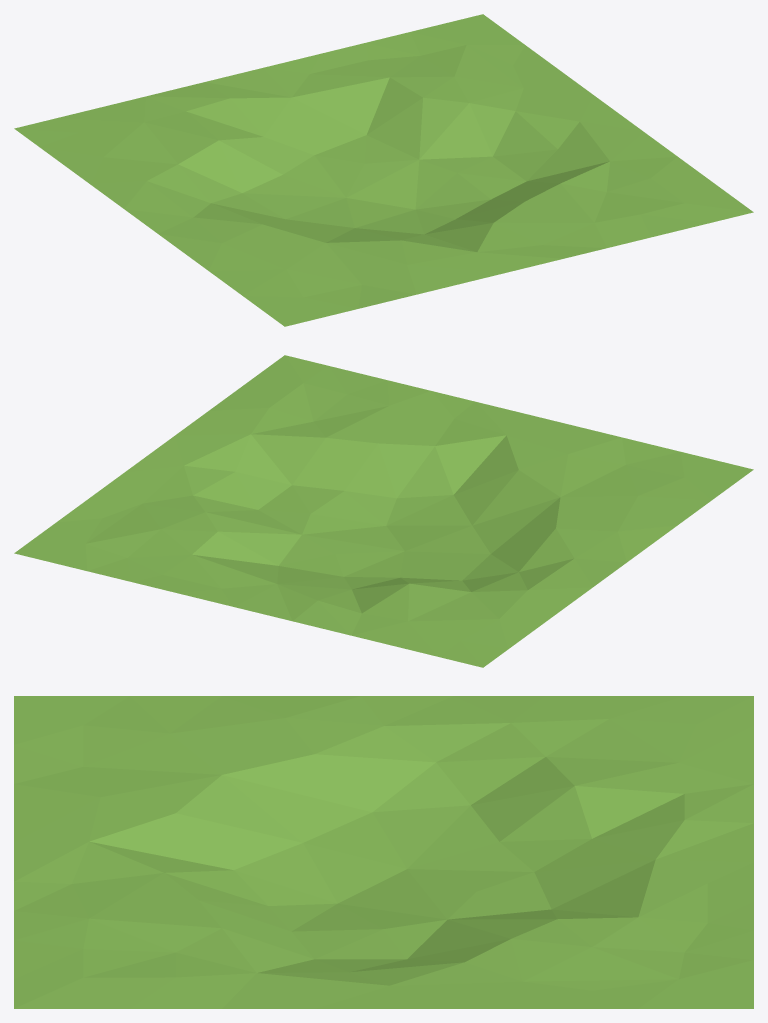
Rendered from MT_Terrain_S_b_03.fbx.
3 renders of one model, top to bottom at view 1: azimuth 30°, elevation 25°; view 2: azimuth 150°, elevation 25°; view 3: azimuth 270°, elevation 25°, orthographic. The views are drawn at different scales.
Visible parts, largest first — view 1: MT_Terrain_S_b_03; view 2: MT_Terrain_S_b_03; view 3: MT_Terrain_S_b_03.
Boxes of the visible parts, x1,y1,x2,y2 form: MT_Terrain_S_b_03: [14, 14, 753, 326]; MT_Terrain_S_b_03: [14, 355, 753, 667]; MT_Terrain_S_b_03: [14, 696, 753, 1008].
Size of the model in its own units: 2500 by 166 by 2500.
